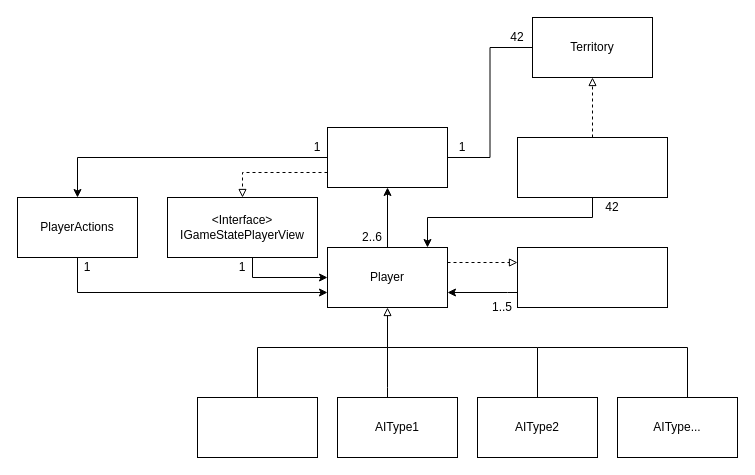
This 755x475 diagram has some shape labels left out. The box of each missing label's shape, as (x1, y1, x2, y2) in pixels:
<Interface> IOtherPlayer: (516, 246, 668, 308)
<Interface> ITerritoryPlayerView: (516, 136, 668, 198)
GameState: (326, 126, 448, 188)
HumanPlayer: (196, 396, 318, 458)
